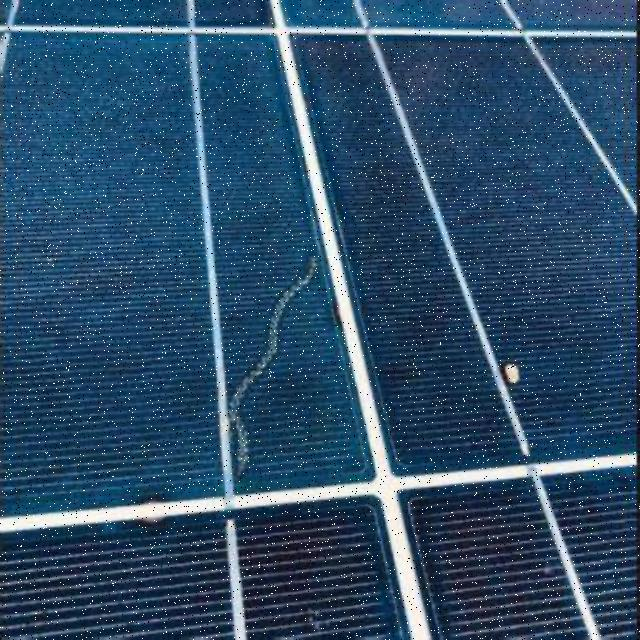electrical damage: (197, 230, 369, 505)
